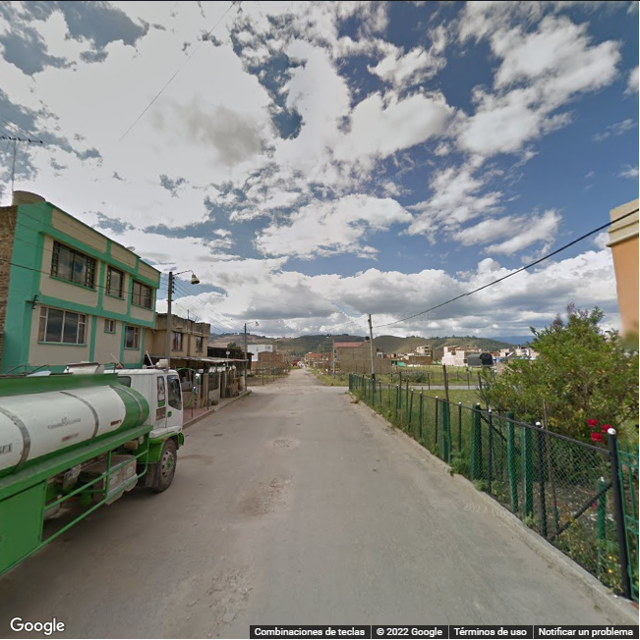D00: (449, 535, 525, 621)
D40: (202, 559, 245, 622), (231, 478, 266, 522)
